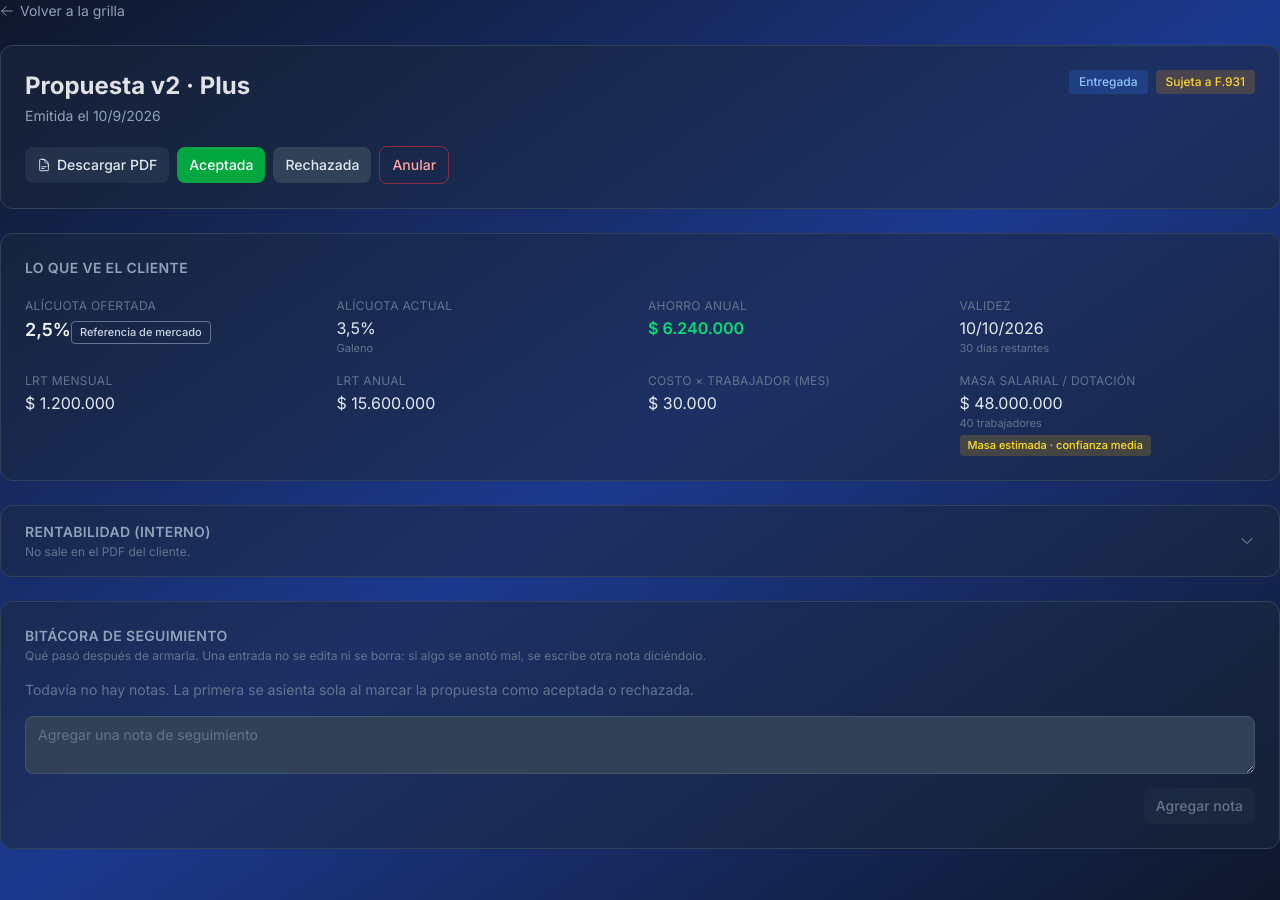
Test case: ArtPropuestaDetalle › el 409 "cargar F.931 primero" se muestra tal cual, dentro del modal
Click the button "Aceptada" at (221, 165), box top-left (177, 147), bottom-right (266, 183)
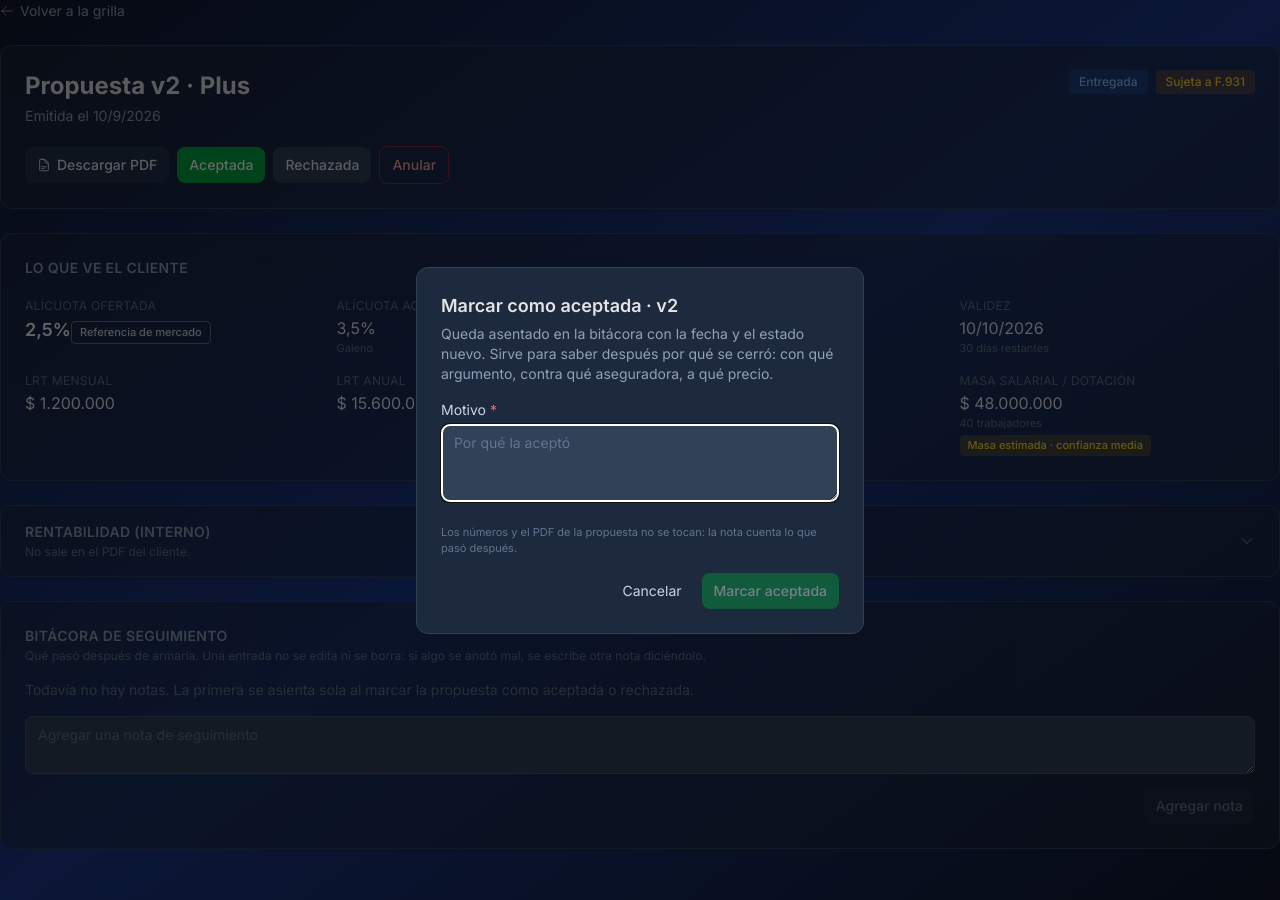
Type "Firmó la propuesta" into the text box with placeholder "Por qué la aceptó" at (640, 462), box top-left (441, 424), bottom-right (839, 502)
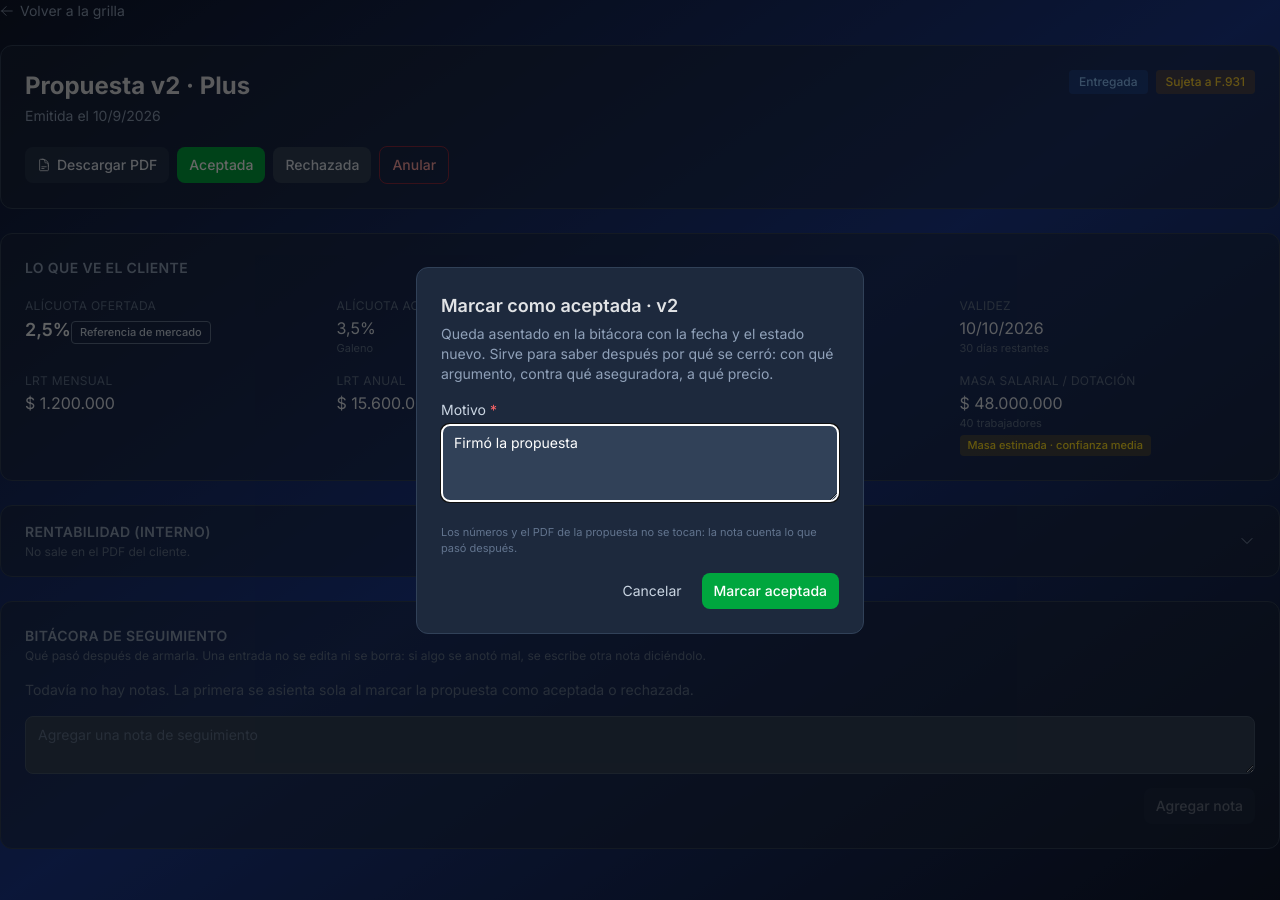
Click the button "Marcar aceptada" at (770, 590), box top-left (702, 572), bottom-right (839, 608)
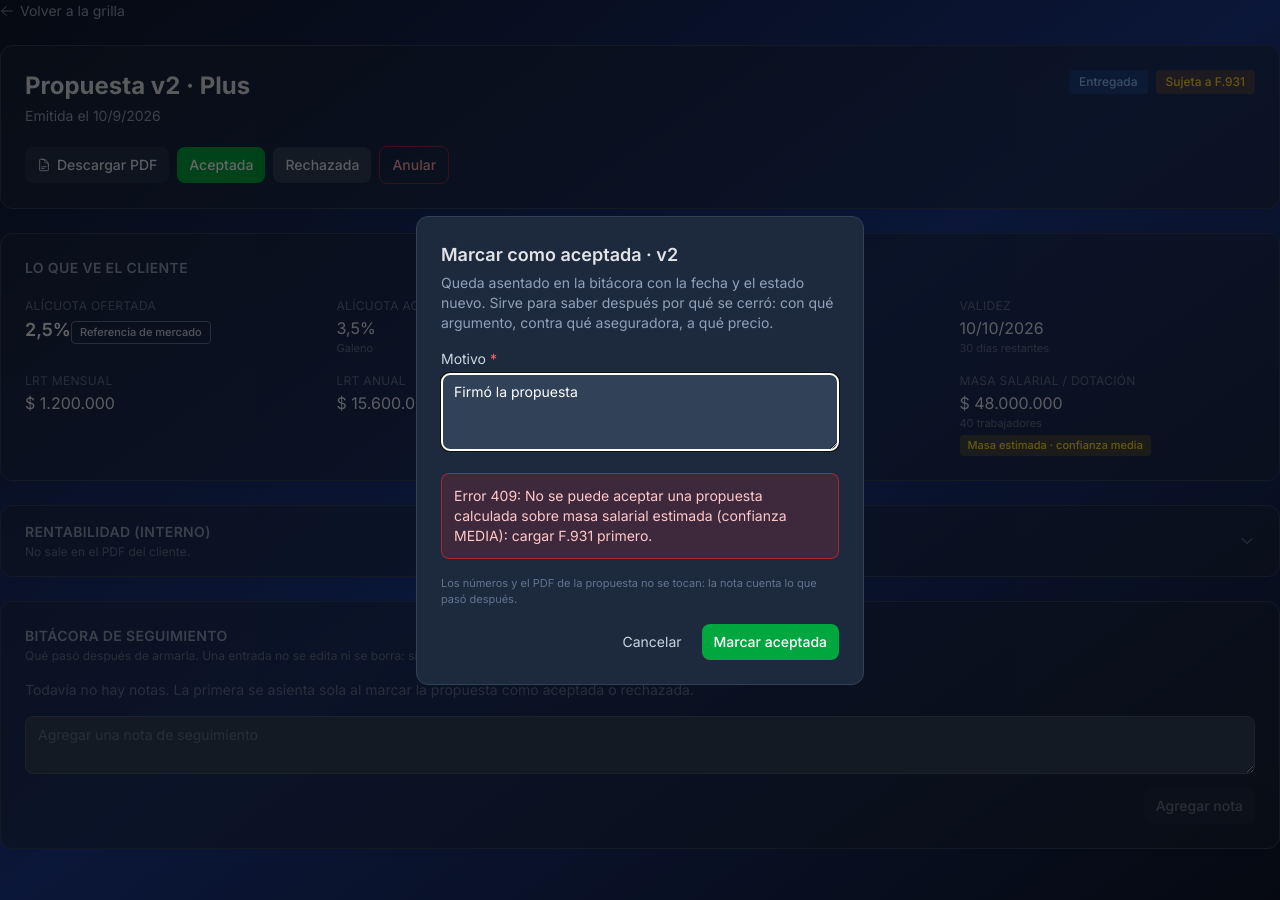
Expected: the text "cargar F.931 primero" is shown, top-left (454, 486), bottom-right (786, 544)
